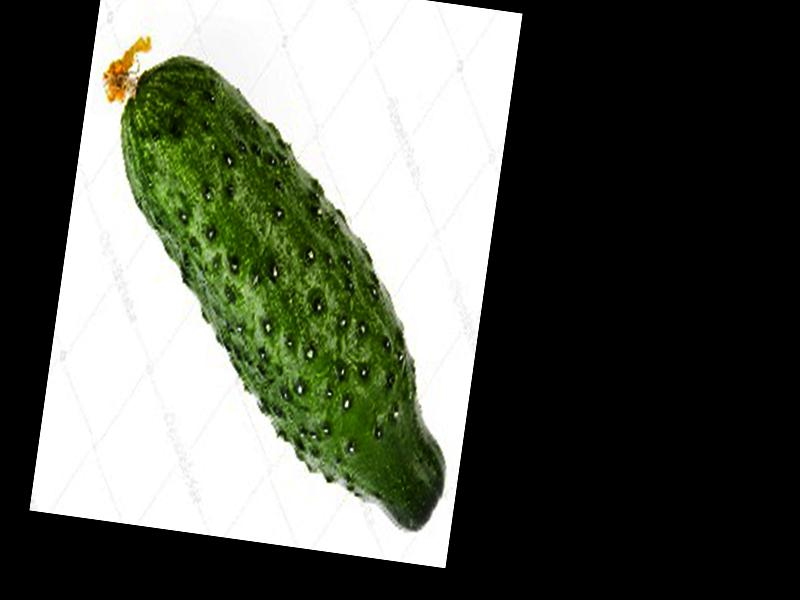Cucumber: (48, 33, 496, 534)
